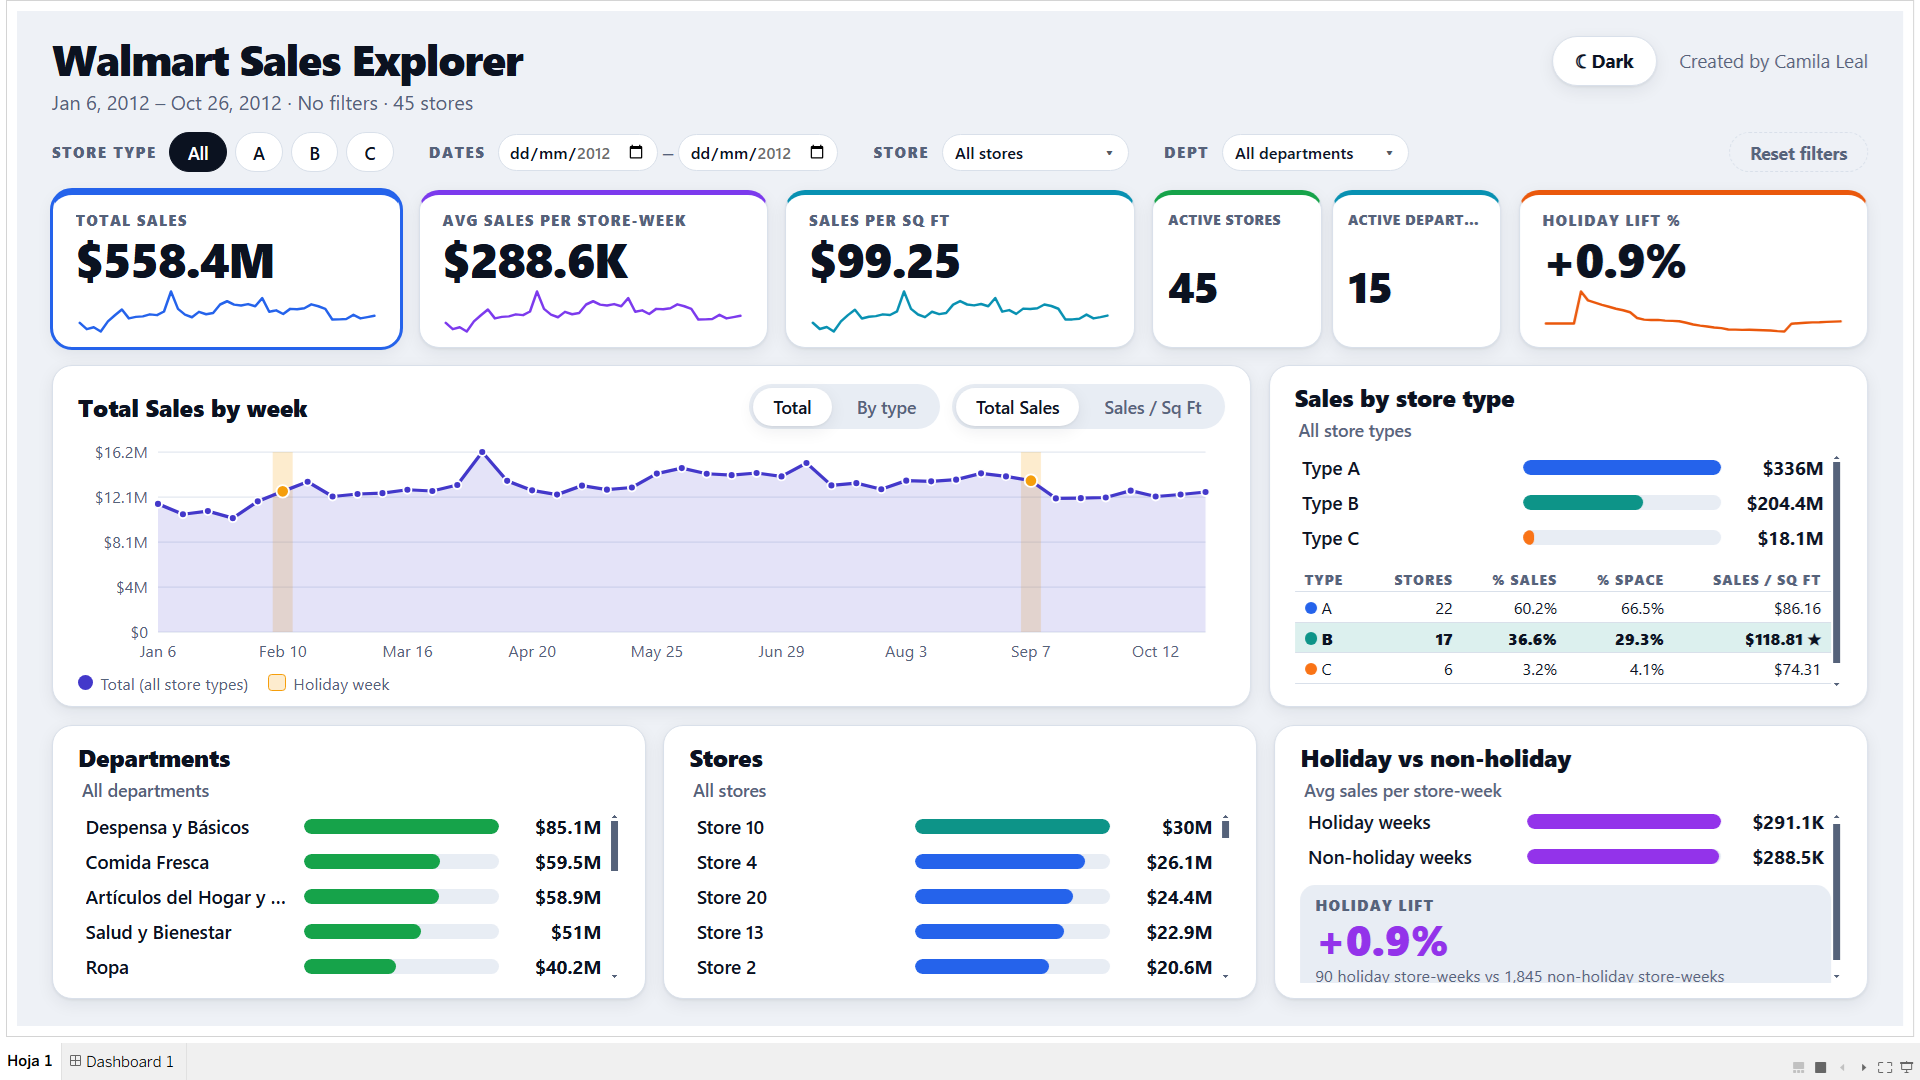

The dashboard page shown, as its layout file describes it:
{"tool":"tableau","page":{"name":"Dashboard 1","canvas":[1920,1080],"ordinal":0},"visuals":[{"type":"worksheet","title":"Hoja 1","box":[0,0,1920,1080]}]}

Visuals, with their boxes on the page's 1920x1080 design canvas (x1, y1, x2, y2). These are canvas units, not pixel positions in the 1920x1080 screenshot, which may show the page scaled, cropped or inside an application window:
"Hoja 1" worksheet: BBox(0, 0, 1920, 1080)
